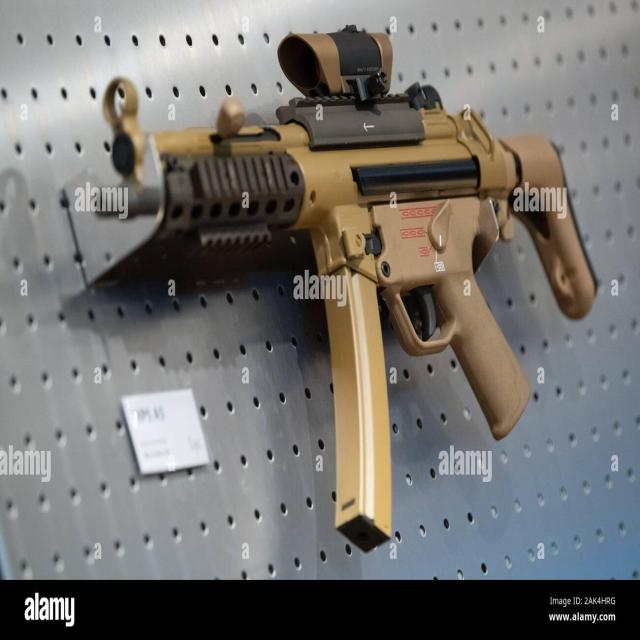SMG: (95, 27, 599, 554)
